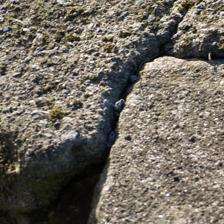Crack: (51, 16, 173, 126)
